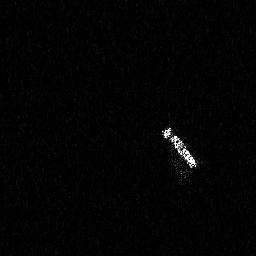ship: (160, 126, 200, 171)
